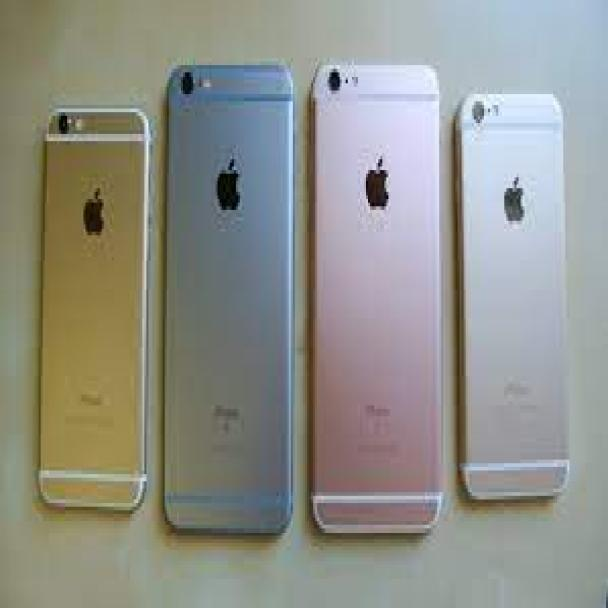Handphone: (308, 65, 445, 530), (163, 65, 295, 533), (454, 95, 568, 500), (40, 110, 150, 510)
